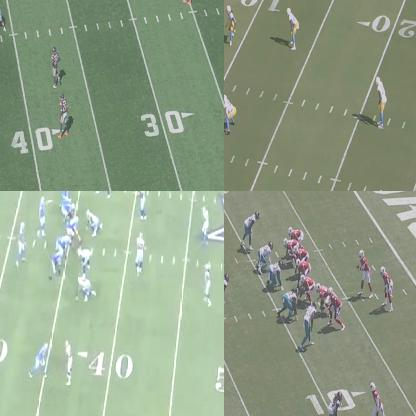CENTER: (300, 275, 314, 302), (68, 215, 81, 242)
DB: (375, 73, 386, 127), (63, 341, 75, 383), (288, 7, 298, 49), (202, 264, 212, 306), (325, 392, 342, 415), (53, 47, 61, 85), (60, 95, 68, 133), (227, 5, 235, 37), (201, 207, 208, 241)
LB: (244, 212, 258, 246), (305, 303, 316, 344), (135, 191, 148, 222), (224, 93, 234, 133), (136, 230, 143, 272), (224, 273, 230, 316)
QB: (359, 250, 371, 297), (38, 196, 46, 234)
SKILL: (30, 342, 49, 378), (369, 381, 387, 415), (381, 264, 394, 311), (16, 222, 26, 263), (288, 225, 304, 243), (283, 237, 292, 257)
